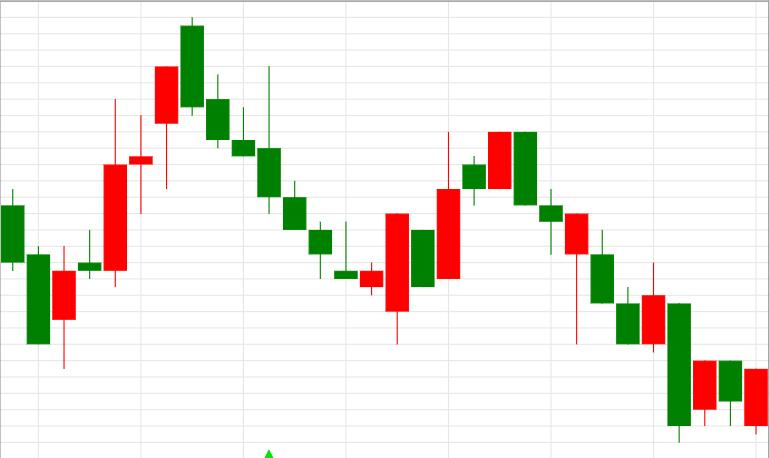bearish_engulfing_fall: (361, 131, 537, 344)
